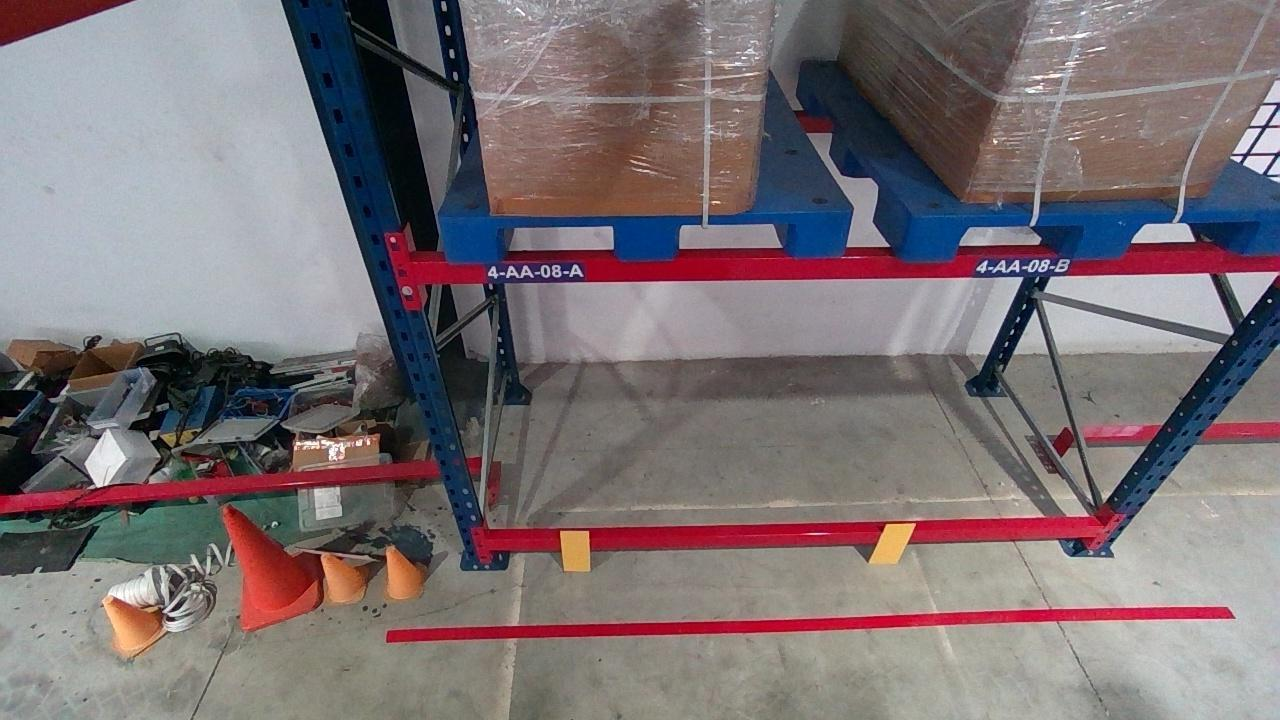h_rack: (407, 249, 1272, 281), (489, 524, 1105, 550)
orange_strip: (869, 523, 918, 563), (560, 531, 590, 571)
red_line: (384, 604, 1232, 641)
small_pallet: (900, 209, 1279, 258), (440, 213, 850, 258)
